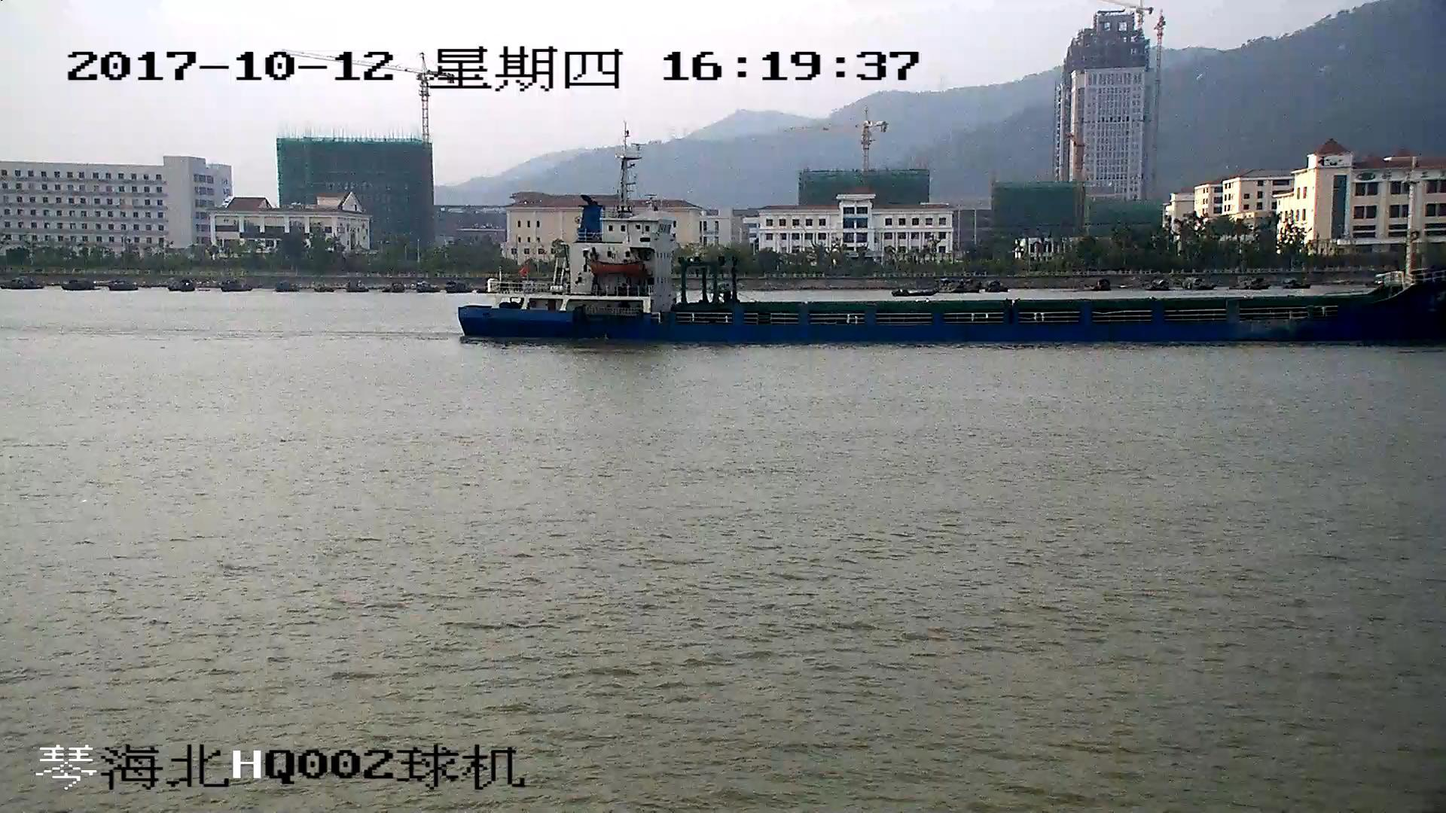general cargo ship: (456, 134, 1445, 351)
